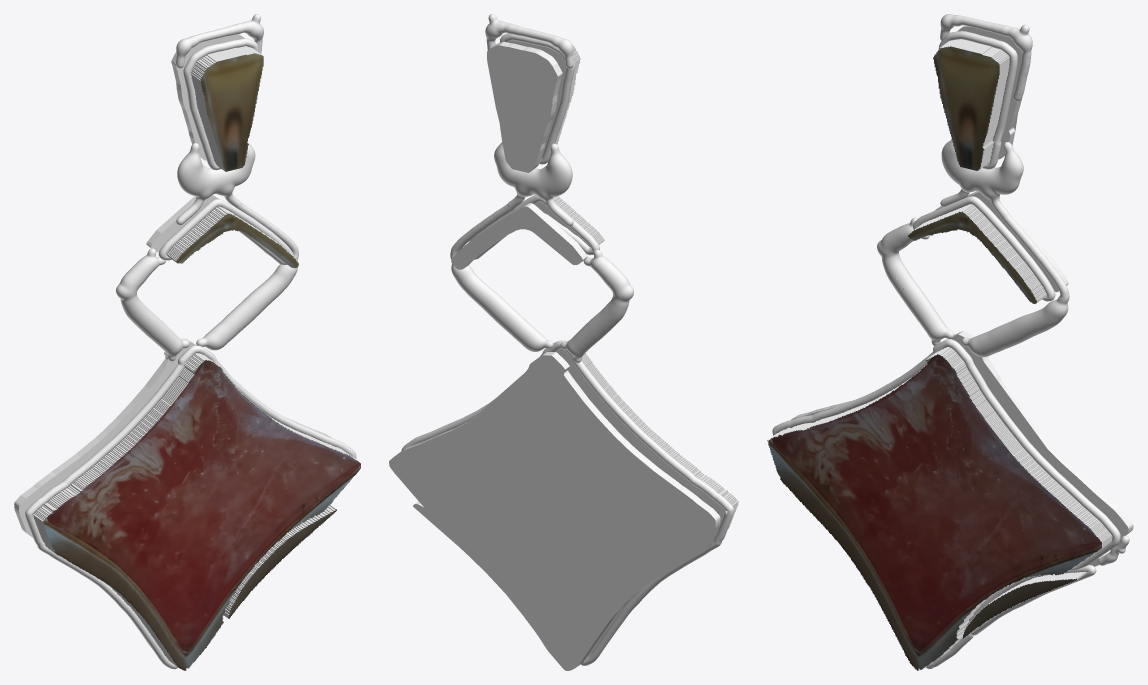
3 views of the same model, side by side, from view 1: azimuth 30°, elevation 25°; view 2: azimuth 150°, elevation 25°; view 3: azimuth 330°, elevation 25° (orthographic). The views are drawn at different scales.
Visible parts, largest first — view 1: joya; view 2: joya; view 3: joya.
Boxes of the visible parts, x1,y1,x2,y2 form: joya: (14, 14, 360, 670); joya: (389, 14, 738, 670); joya: (767, 14, 1133, 670).
Bounding box in the file's own units: 0.0243 × 0.0439 × 0.00325.
3 materials, 1 textured.
